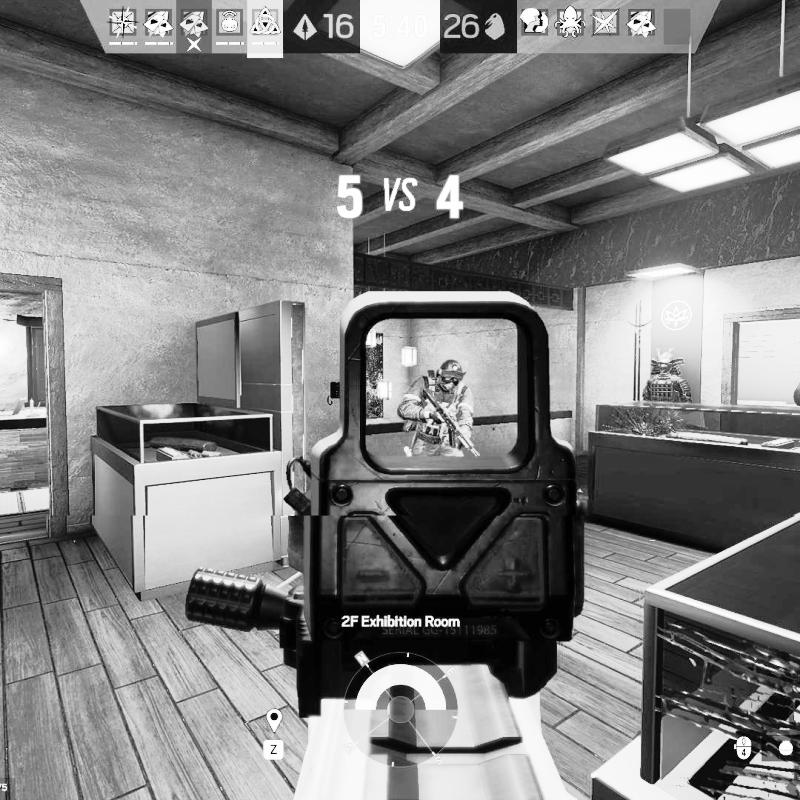Character: (397, 357, 478, 461)
Head: (434, 358, 465, 392)
